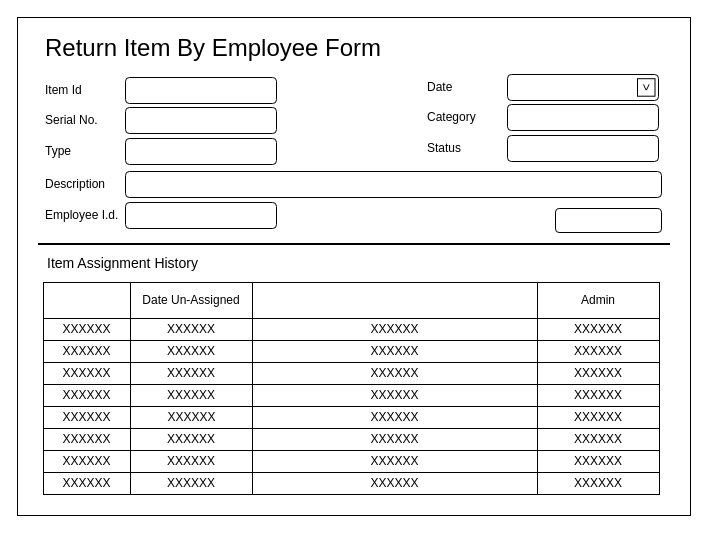
Image size: 708x533. Some labels were removed from this diagram. The centre of each missing label's shape, as x and y in pixels:
Date Assigned: (x=86, y=300)
Department: (x=395, y=300)
Return: (x=608, y=220)
